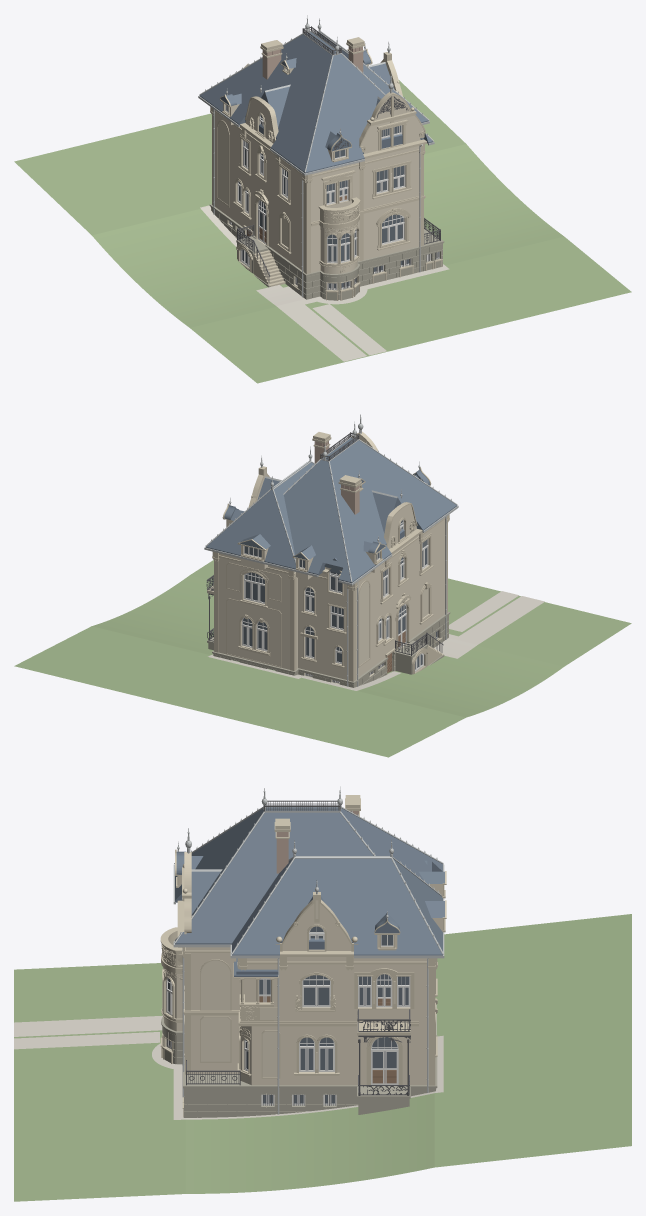
The model's file is villa_callenberg.glb.
The picture shows the model from 3 angles, top to bottom: view 1: azimuth 30°, elevation 25°; view 2: azimuth 150°, elevation 25°; view 3: azimuth 270°, elevation 25°; orthographic projection. The views are drawn at different scales.
Parts seen in each view (by area): view 1: Gelaende, Dach_Schiefer, Fassade_Putz, Gesimse_Faschen_Sandstein, Sockel_Naturstein, Wege_Kies, Fenster_Rahmen_Sprossen, Zink_Grate_Spitzen, Fenster_Glas, Gelaender_Schmiedeeisen, Putzspiegel_Ornamentfelder, Schornsteine; view 2: Gelaende, Dach_Schiefer, Fassade_Putz, Gesimse_Faschen_Sandstein, Putzspiegel_Ornamentfelder, Wege_Kies, Zink_Grate_Spitzen, Sockel_Naturstein, Fenster_Rahmen_Sprossen, Fenster_Glas, Gelaender_Schmiedeeisen, Schornsteine; view 3: Gelaende, Dach_Schiefer, Fassade_Putz, Gesimse_Faschen_Sandstein, Sockel_Naturstein, Wege_Kies, Zink_Grate_Spitzen, Putzspiegel_Ornamentfelder, Fenster_Glas, Fenster_Rahmen_Sprossen, Gelaender_Schmiedeeisen.
Part boxes in pixels (bbox=[...]): Gelaende: bbox=[14, 80, 631, 383]; Dach_Schiefer: bbox=[200, 32, 433, 173]; Fassade_Putz: bbox=[214, 54, 423, 290]; Gesimse_Faschen_Sandstein: bbox=[210, 37, 442, 300]; Sockel_Naturstein: bbox=[209, 204, 444, 300]; Wege_Kies: bbox=[200, 205, 449, 361]; Fenster_Rahmen_Sprossen: bbox=[225, 68, 439, 289]; Zink_Grate_Spitzen: bbox=[198, 15, 434, 297]; Fenster_Glas: bbox=[226, 105, 438, 288]; Gelaender_Schmiedeeisen: bbox=[229, 26, 440, 289]; Putzspiegel_Ornamentfelder: bbox=[218, 121, 392, 261]; Schornsteine: bbox=[262, 46, 363, 79]; Gelaende: bbox=[14, 560, 631, 757]; Dach_Schiefer: bbox=[205, 438, 457, 583]; Fassade_Putz: bbox=[218, 435, 444, 683]; Gesimse_Faschen_Sandstein: bbox=[207, 431, 449, 683]; Putzspiegel_Ornamentfelder: bbox=[227, 563, 428, 666]; Wege_Kies: bbox=[208, 591, 544, 690]; Zink_Grate_Spitzen: bbox=[204, 414, 458, 686]; Sockel_Naturstein: bbox=[207, 612, 450, 687]; Fenster_Rahmen_Sprossen: bbox=[232, 487, 437, 683]; Fenster_Glas: bbox=[243, 520, 436, 681]; Gelaender_Schmiedeeisen: bbox=[206, 432, 443, 683]; Schornsteine: bbox=[314, 441, 359, 514]; Gelaende: bbox=[14, 914, 631, 1201]; Dach_Schiefer: bbox=[175, 807, 444, 976]; Fassade_Putz: bbox=[164, 875, 442, 1085]; Gesimse_Faschen_Sandstein: bbox=[160, 795, 446, 1117]; Sockel_Naturstein: bbox=[161, 1016, 437, 1117]; Wege_Kies: bbox=[14, 1004, 443, 1119]; Zink_Grate_Spitzen: bbox=[173, 786, 444, 1114]; Putzspiegel_Ornamentfelder: bbox=[201, 900, 395, 1077]; Fenster_Glas: bbox=[168, 926, 409, 1103]; Fenster_Rahmen_Sprossen: bbox=[166, 927, 410, 1105]; Gelaender_Schmiedeeisen: bbox=[167, 800, 410, 1105].
Bounding box in the file's own units: 32 × 19.5 × 36.
